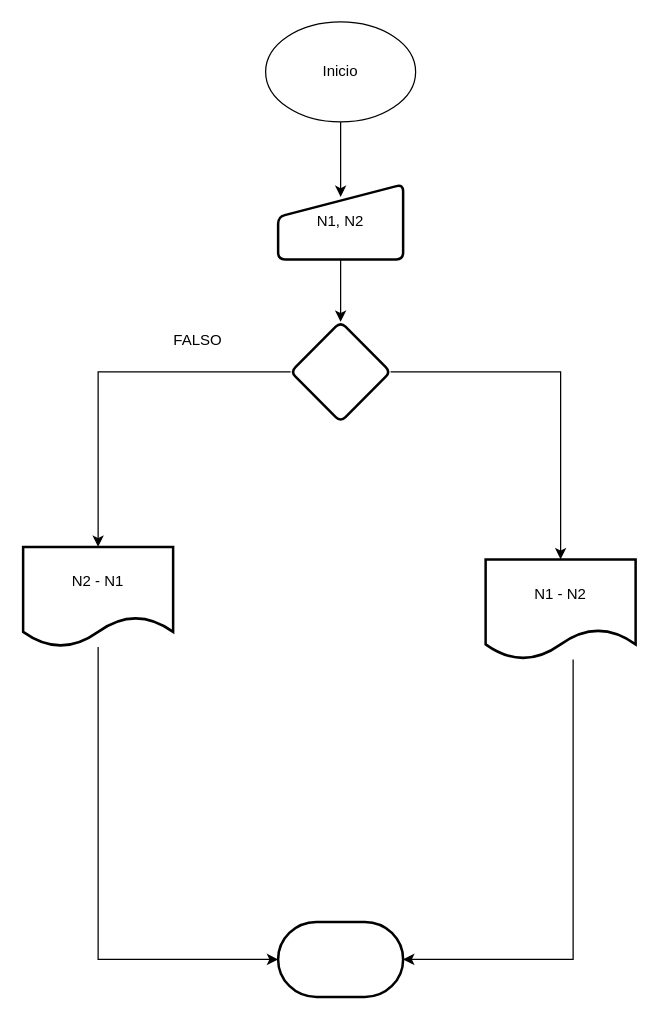
The diagram is 658 pixels wide and 1020 high, and some of its shapes have lost their labels. Here are the shapes that lost their labels. From the top down, the box of each, then its label:
(289, 320, 391, 422): N1 > N2
(276, 920, 404, 998): Fim
